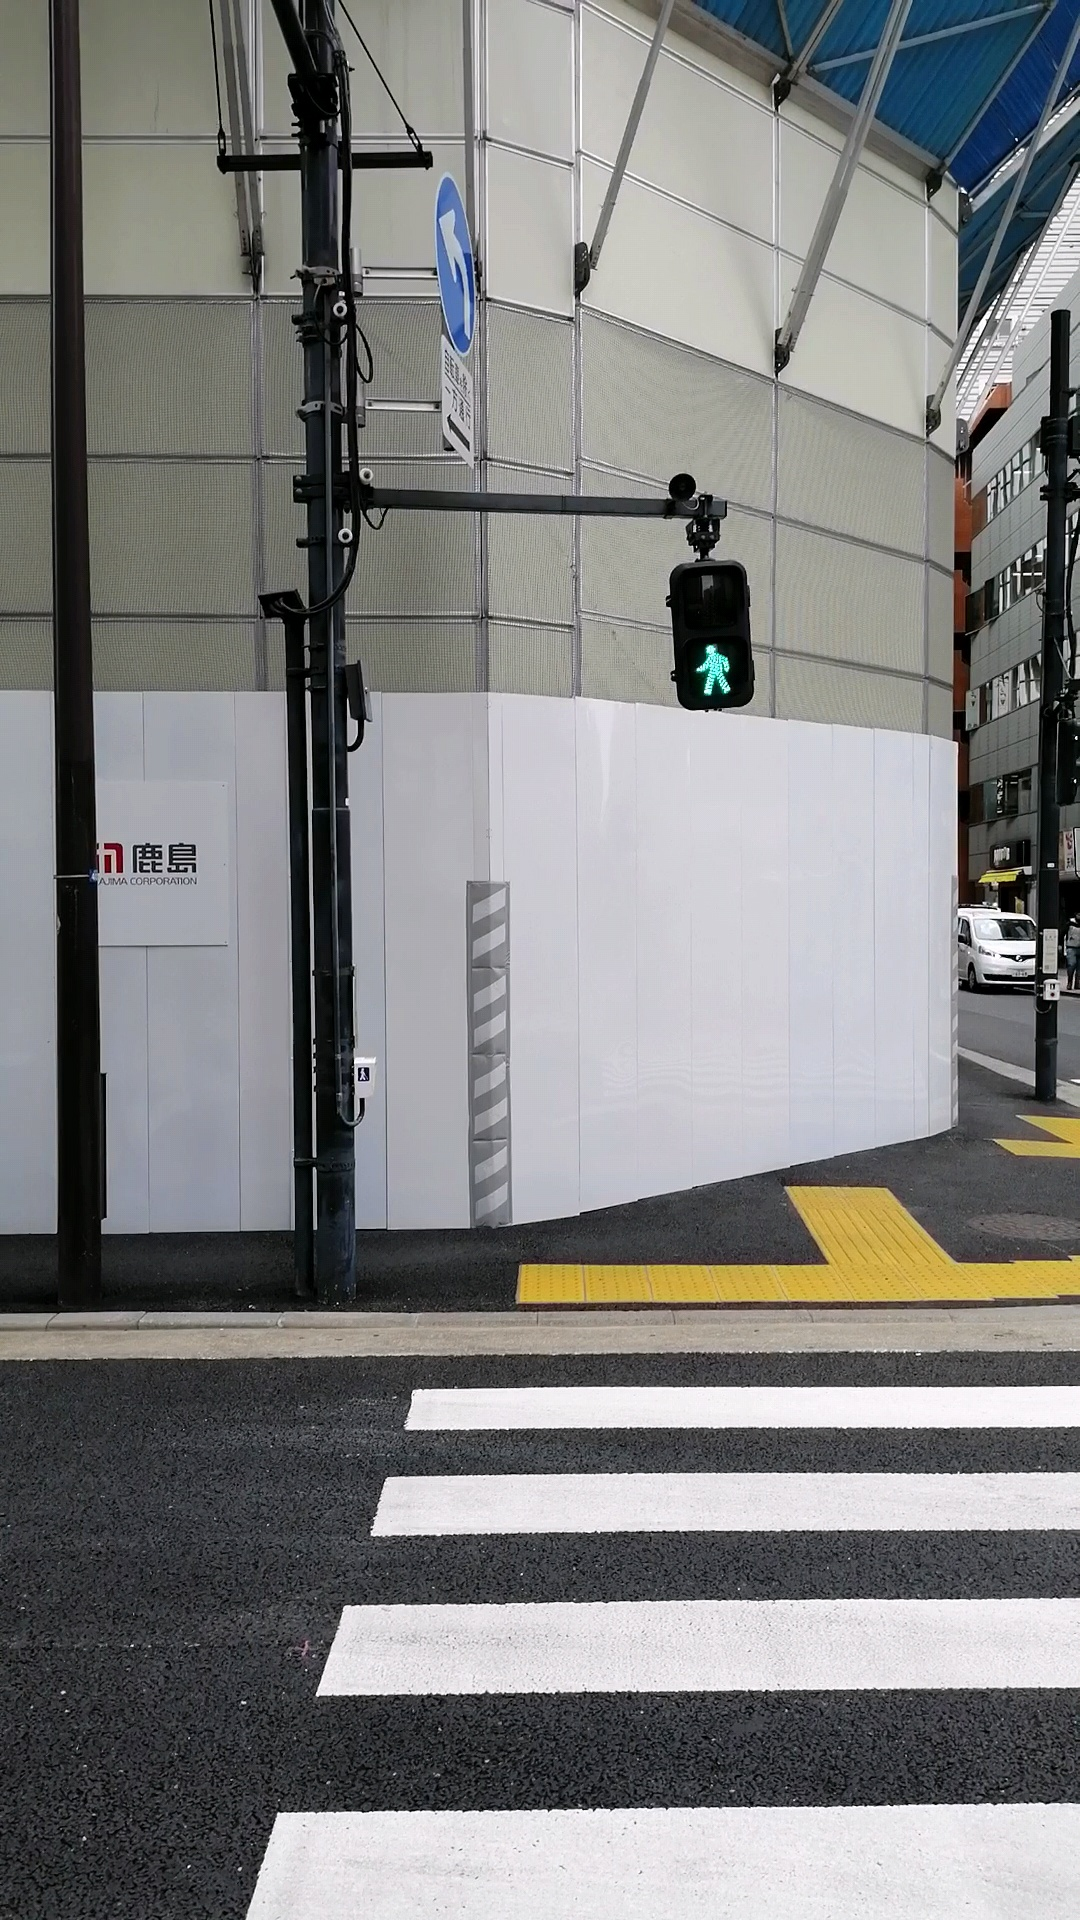green: (667, 563, 754, 709)
